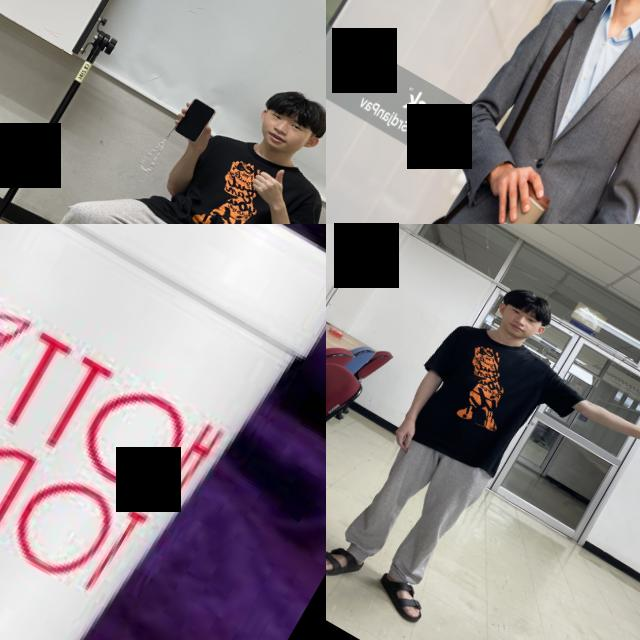cup: (0, 224, 326, 640), (479, 179, 556, 224)
